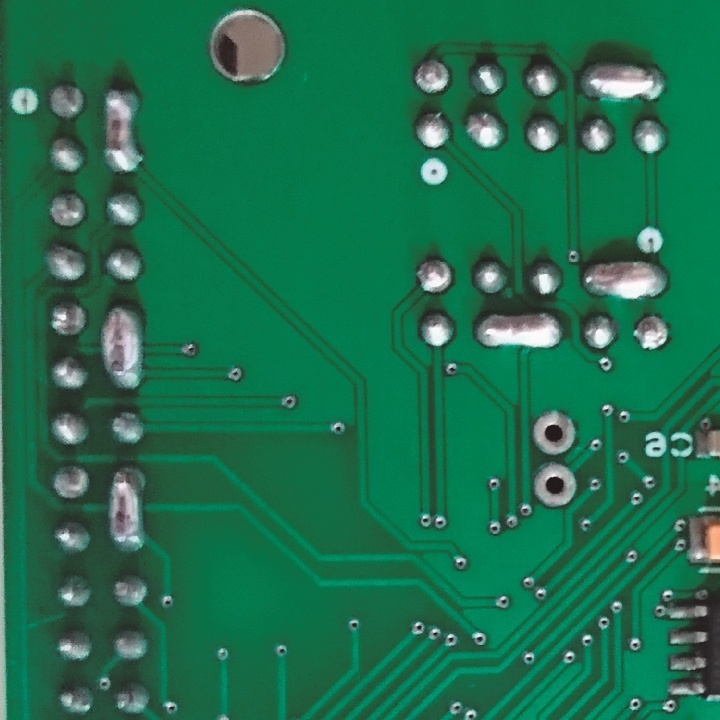F: (530, 409, 579, 458), (533, 458, 576, 512), (48, 460, 93, 506), (47, 300, 89, 341), (46, 80, 85, 123), (47, 190, 90, 228), (414, 255, 454, 295), (413, 57, 453, 97), (633, 312, 671, 353)
P: (104, 303, 147, 393), (583, 260, 671, 300), (103, 88, 139, 175), (475, 315, 563, 350), (583, 65, 663, 103), (111, 466, 143, 549)
